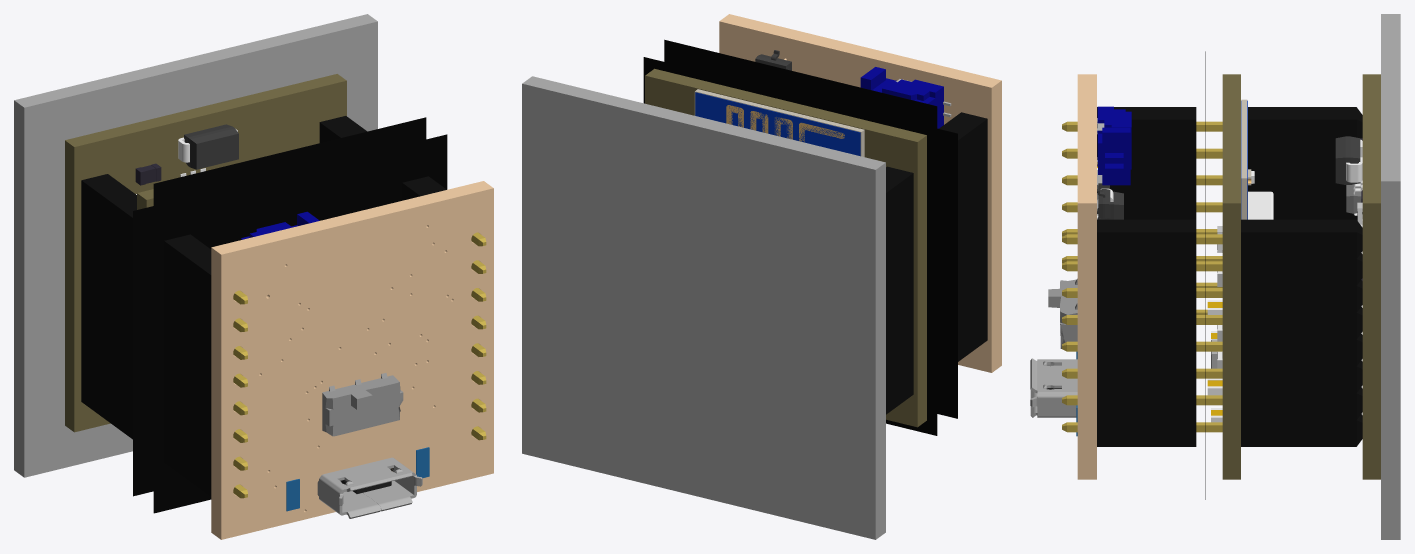
Rendered from block_with_screen.fbx.
3 views of the same model, side by side, from view 1: azimuth 30°, elevation 25°; view 2: azimuth 150°, elevation 25°; view 3: azimuth 270°, elevation 25° (orthographic). The views are drawn at different scales.
Parts seen in each view (by area): view 1: Board (×2), Body1 (×2), Body2 (×6), Body3; view 2: Body1 (×2), Board (×2), Body2 (×4), Body21, Body3; view 3: Body2 (×12), Board (×3), Body1 (×3), Body3, Body20.
Boxes of the visible parts, x1,y1,x2,y2 form: Board (×2): (65,74,493,539); Body1 (×2): (14,14,447,513); Body2 (×6): (81,124,486,498); Body3: (317,457,422,518); Body1 (×2): (522,39,957,539); Board (×2): (645,14,1001,427); Body2 (×4): (694,79,987,414); Body21: (695,92,860,156); Body3: (726,105,844,142); Body2 (×12): (1048,99,1362,446); Board (×3): (1077,74,1380,479); Body1 (×3): (1098,14,1400,539); Body3: (1030,358,1077,417); Body20: (1248,191,1273,219).
Bounding box in the file's own units: 33.94 × 33.94 × 31.76.
